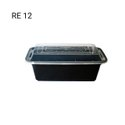PlasticBox: (22, 42, 109, 85)
